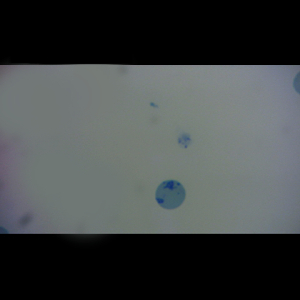aggregate reticulocyte: (154, 179, 188, 211)
